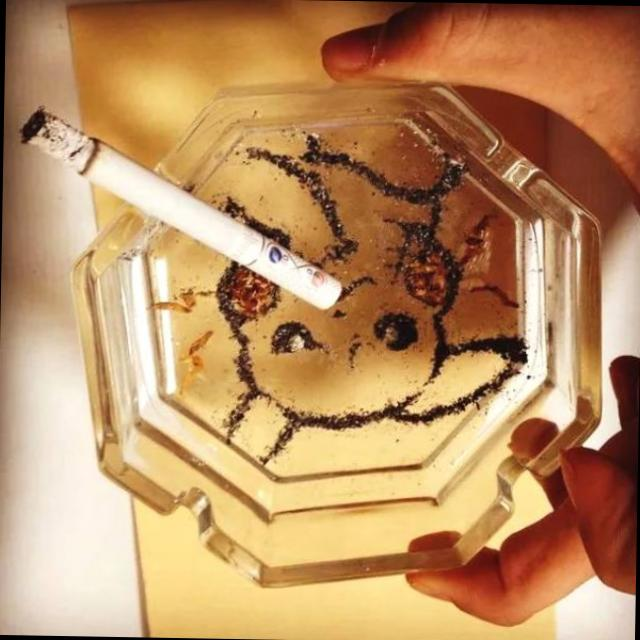smoke: (13, 97, 348, 318)
